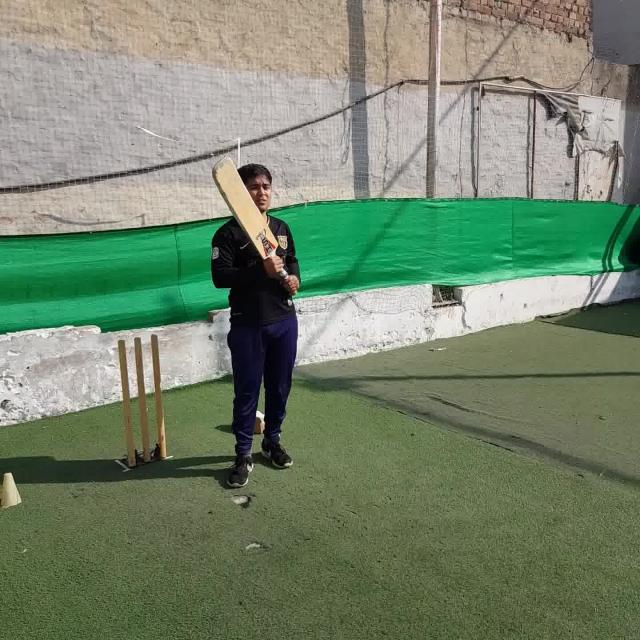bat: (215, 156, 290, 285)
